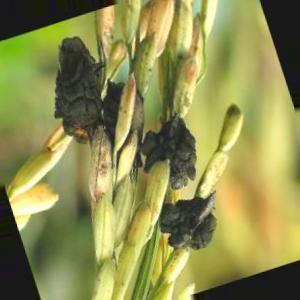Leaf_Scald: (60, 36, 104, 144), (157, 113, 197, 192), (167, 200, 214, 255), (112, 82, 148, 148)
